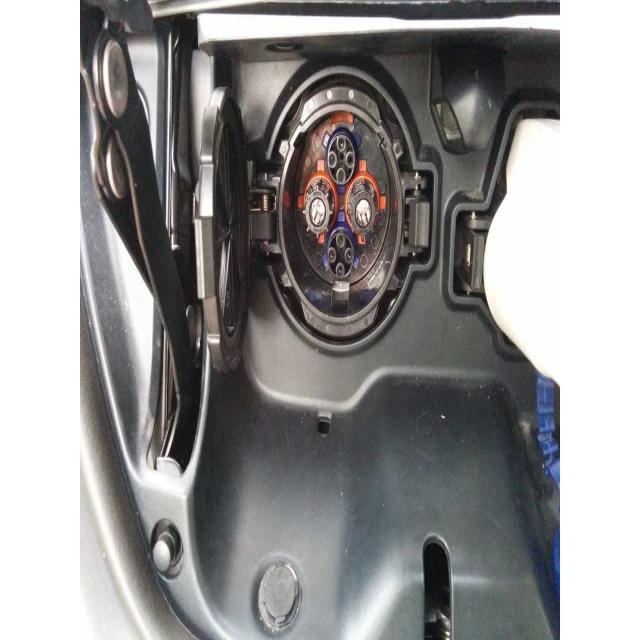CHAdeMO: (254, 93, 456, 330)
